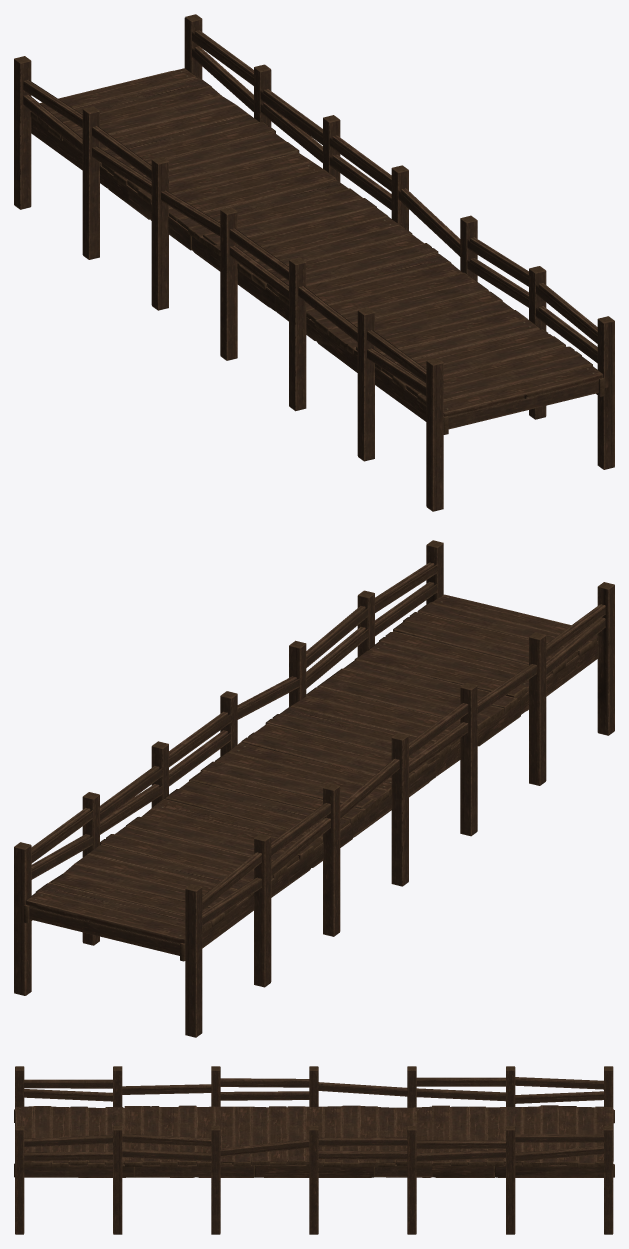
Rendered from Bridge01.glb.
3 views of the same model, one above another, from view 1: azimuth 30°, elevation 25°; view 2: azimuth 150°, elevation 25°; view 3: azimuth 270°, elevation 25° (orthographic). The views are drawn at different scales.
Visible parts, largest first — view 1: Bridge01; view 2: Bridge01; view 3: Bridge01.
Part boxes in pixels (x1,y1,x2,y2): Bridge01: [14, 14, 614, 511]; Bridge01: [14, 540, 614, 1037]; Bridge01: [14, 1066, 614, 1234].
Bounding box in the file's own units: 6.29 × 4.83 × 25.13.
Materials: 2 (2 with a texture image).
